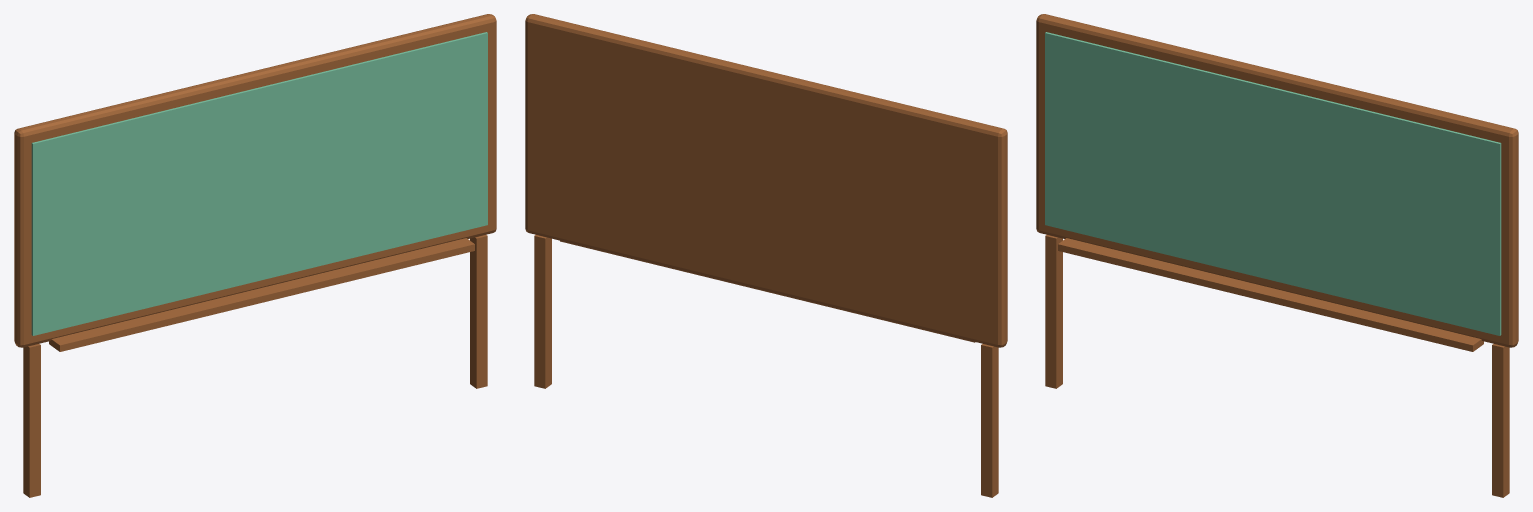
File: int_papanTulis.fbx
3 views of the same model, side by side, from view 1: azimuth 30°, elevation 25°; view 2: azimuth 150°, elevation 25°; view 3: azimuth 330°, elevation 25° (orthographic).
Visible parts, largest first — view 1: int_papanTulis; view 2: int_papanTulis; view 3: int_papanTulis.
Part boxes in pixels (<box>): int_papanTulis: <box>14,14,496,497</box>; int_papanTulis: <box>525,14,1007,497</box>; int_papanTulis: <box>1036,14,1518,497</box>.
Bounding box in the file's own units: 300 × 220 × 17.
1 material, 1 textured.
